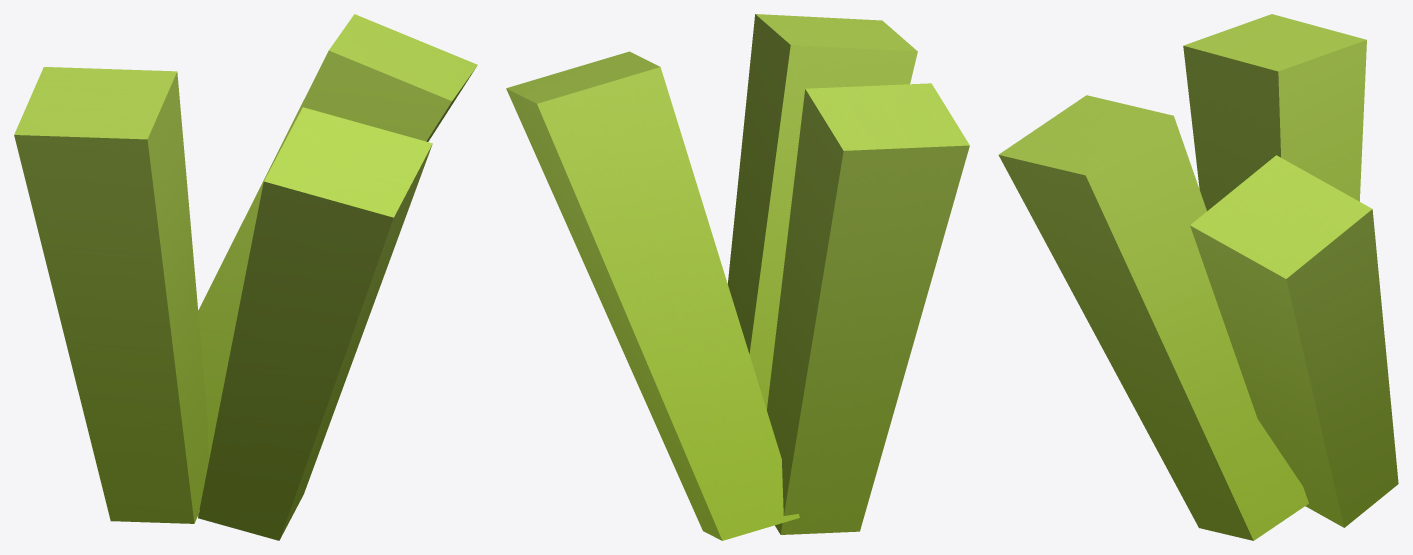
File: Prop_GrassBlade.fbx
The picture shows the model from 3 angles, left to right: view 1: azimuth 30°, elevation 25°; view 2: azimuth 150°, elevation 25°; view 3: azimuth 270°, elevation 25°; orthographic projection. The views are drawn at different scales.
Visible parts, largest first — view 1: Prop_GrassBlade; view 2: Prop_GrassBlade; view 3: Prop_GrassBlade.
Boxes of the visible parts, left/top/right/bottom form: Prop_GrassBlade: left=14, top=14, right=477, bottom=540; Prop_GrassBlade: left=506, top=14, right=969, bottom=540; Prop_GrassBlade: left=998, top=14, right=1398, bottom=540.
Size of the model in its own units: 56.24 by 51.71 by 43.75.
